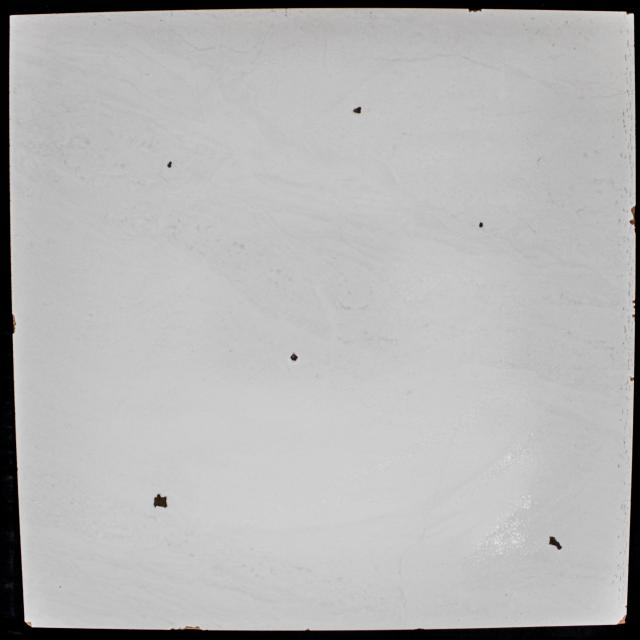edge-chipping: (629, 206, 636, 228), (176, 626, 202, 630), (617, 615, 627, 625), (12, 314, 16, 334), (467, 8, 482, 12), (24, 622, 32, 628), (626, 11, 634, 15), (632, 299, 636, 304), (630, 377, 634, 381), (170, 628, 176, 630)
hole: (152, 494, 169, 508), (549, 536, 562, 550), (353, 106, 362, 114), (290, 354, 298, 361), (478, 222, 484, 228), (167, 161, 172, 168)
